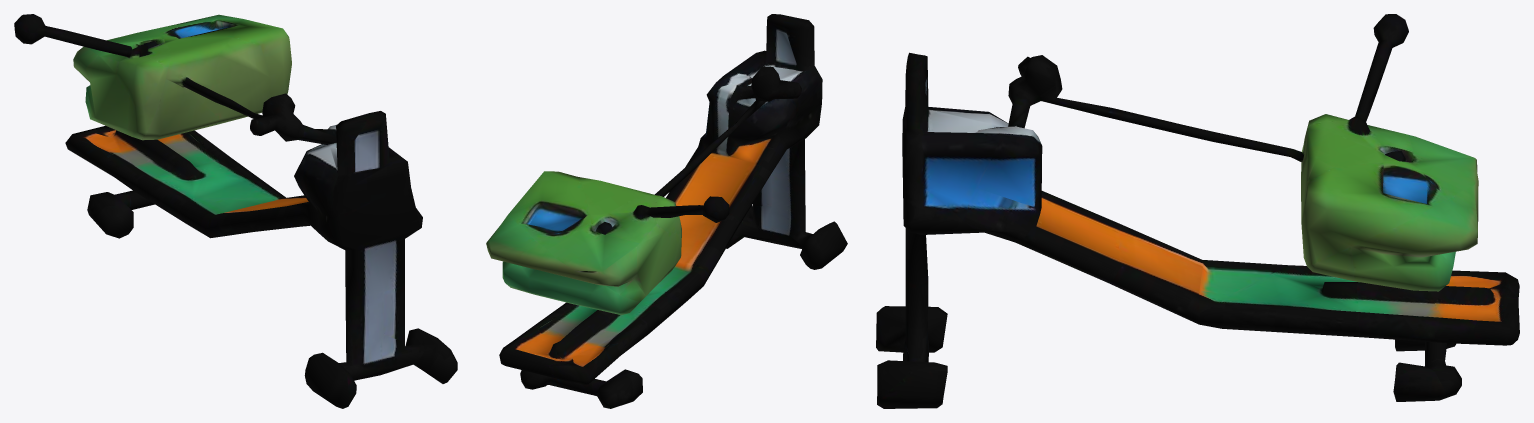
Rendered from rowing-machine.glb.
The picture shows the model from 3 angles, left to right: view 1: azimuth 30°, elevation 25°; view 2: azimuth 150°, elevation 25°; view 3: azimuth 270°, elevation 25°; orthographic projection. The views are drawn at different scales.
Parts seen in each view (by area): view 1: tripo_node_bd3d019b-c95b-446c-8333-a8e23913b01c; view 2: tripo_node_bd3d019b-c95b-446c-8333-a8e23913b01c; view 3: tripo_node_bd3d019b-c95b-446c-8333-a8e23913b01c.
Boxes of the visible parts, bbox=[...] form: tripo_node_bd3d019b-c95b-446c-8333-a8e23913b01c: bbox=[14, 14, 457, 408]; tripo_node_bd3d019b-c95b-446c-8333-a8e23913b01c: bbox=[486, 14, 847, 408]; tripo_node_bd3d019b-c95b-446c-8333-a8e23913b01c: bbox=[876, 14, 1519, 408].
Size of the model in its own units: 0.501 by 0.5317 by 0.9989.
1 material, 1 textured.
